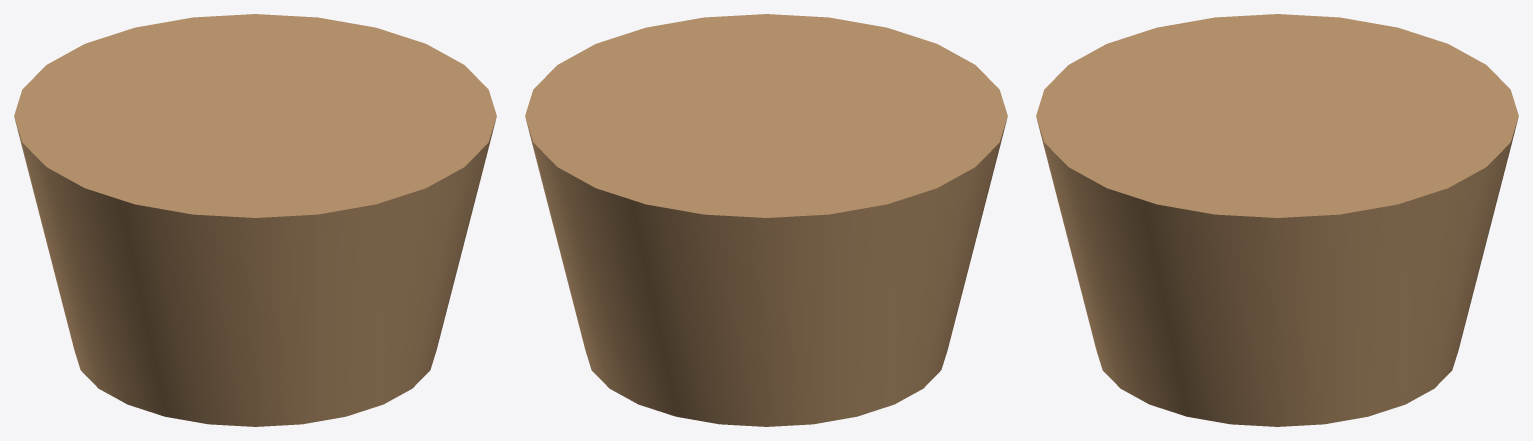
The model's file is jar_flask_cork.obj.
3 renders of one model, left to right at view 1: azimuth 30°, elevation 25°; view 2: azimuth 150°, elevation 25°; view 3: azimuth 270°, elevation 25°, orthographic.
Visible parts, largest first — view 1: jar_flask_cork; view 2: jar_flask_cork; view 3: jar_flask_cork.
Part boxes in pixels (x1=…): jar_flask_cork: x1=14, y1=14, x2=496, y2=426; jar_flask_cork: x1=525, y1=14, x2=1007, y2=426; jar_flask_cork: x1=1036, y1=14, x2=1518, y2=426.
Bounding box in the file's own units: 0.056 × 0.03 × 0.056.
1 material, 1 textured.
